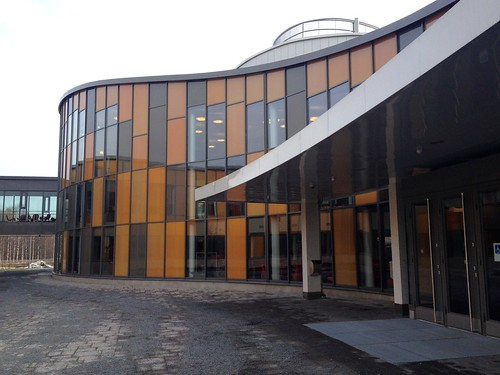building: (55, 1, 500, 341)
sky: (9, 2, 275, 86)
